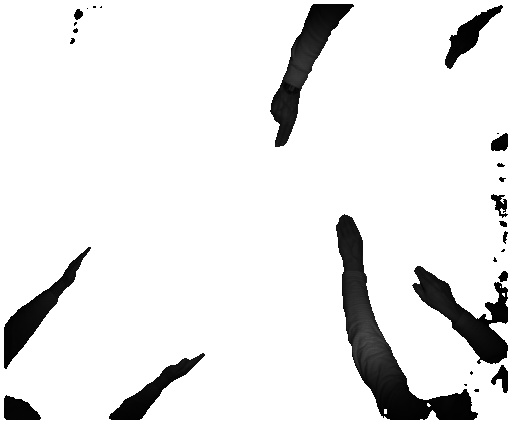hand: (408, 264, 456, 315), (264, 91, 301, 151), (440, 24, 481, 71), (336, 208, 367, 267)
spine: (54, 240, 95, 296), (161, 352, 207, 388)
